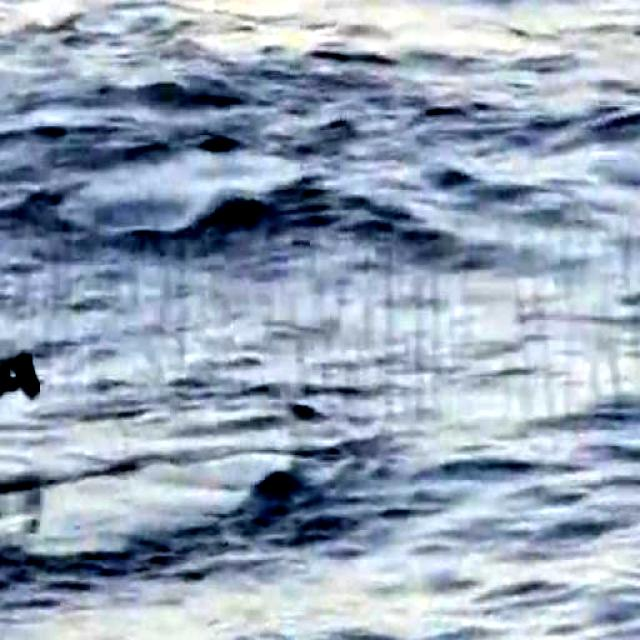airplane: (0, 332, 45, 448)
